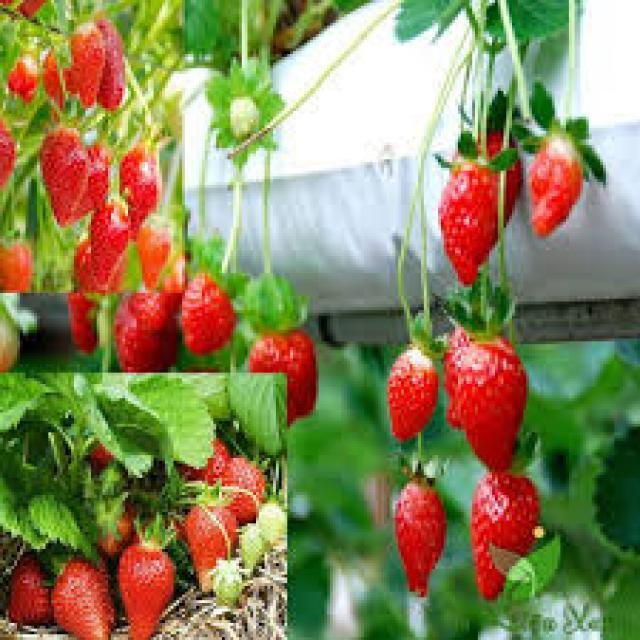Fruta sana: (416, 158, 510, 283), (454, 334, 526, 464), (386, 477, 458, 602), (55, 11, 130, 112), (480, 471, 535, 606), (538, 128, 596, 234), (180, 263, 246, 352), (48, 127, 108, 220), (260, 327, 316, 421), (121, 535, 171, 640), (112, 290, 174, 373), (46, 552, 105, 638), (88, 199, 140, 286), (393, 340, 434, 442), (188, 492, 234, 580), (6, 542, 46, 631), (126, 148, 164, 236), (224, 461, 263, 514)
